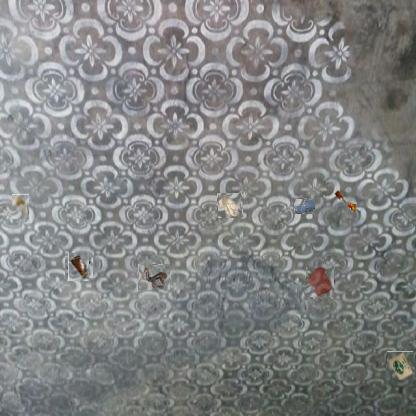dirty: (138, 264, 170, 290), (387, 352, 414, 379), (332, 189, 358, 213), (218, 193, 242, 218), (67, 255, 91, 280), (10, 196, 31, 218)
liquid: (305, 266, 335, 296), (293, 198, 315, 214)
